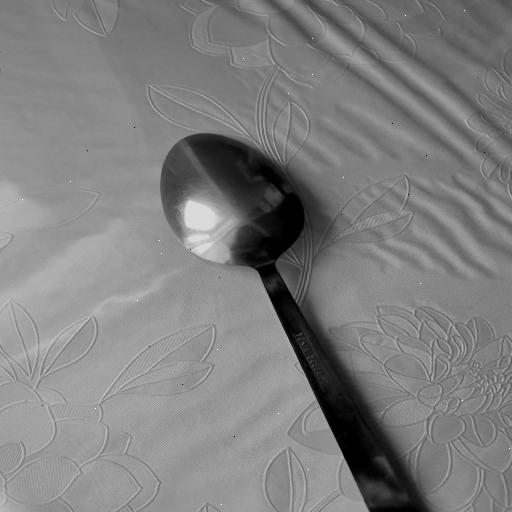spoon: (161, 127, 415, 512)
